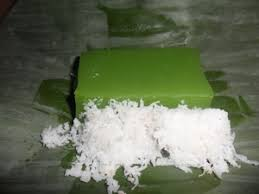kanompiakpoon: (69, 43, 244, 186)
